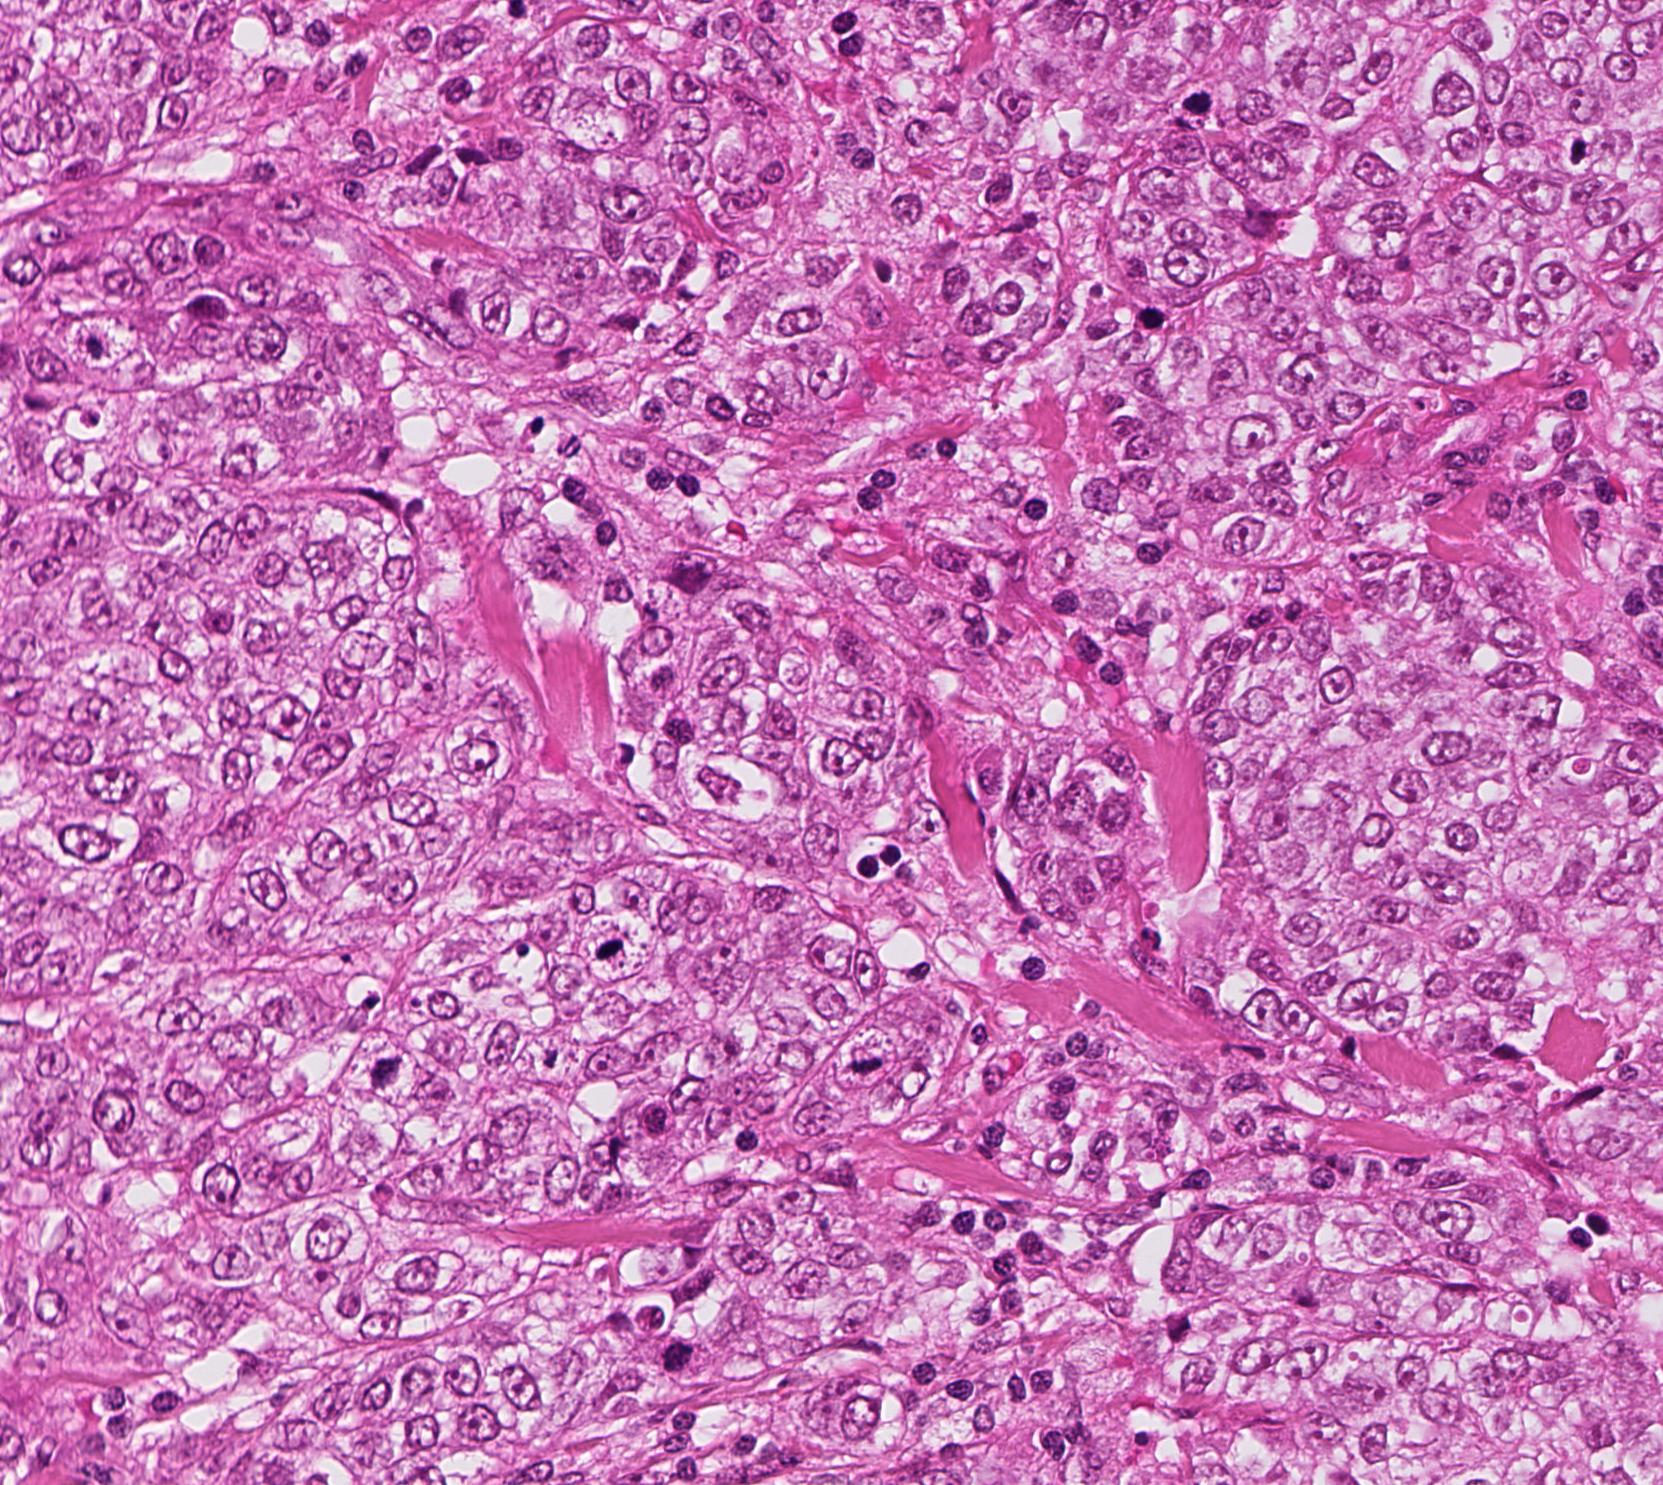mitosis: (1155, 72, 1216, 132), (647, 1329, 707, 1389), (351, 1039, 411, 1099)
